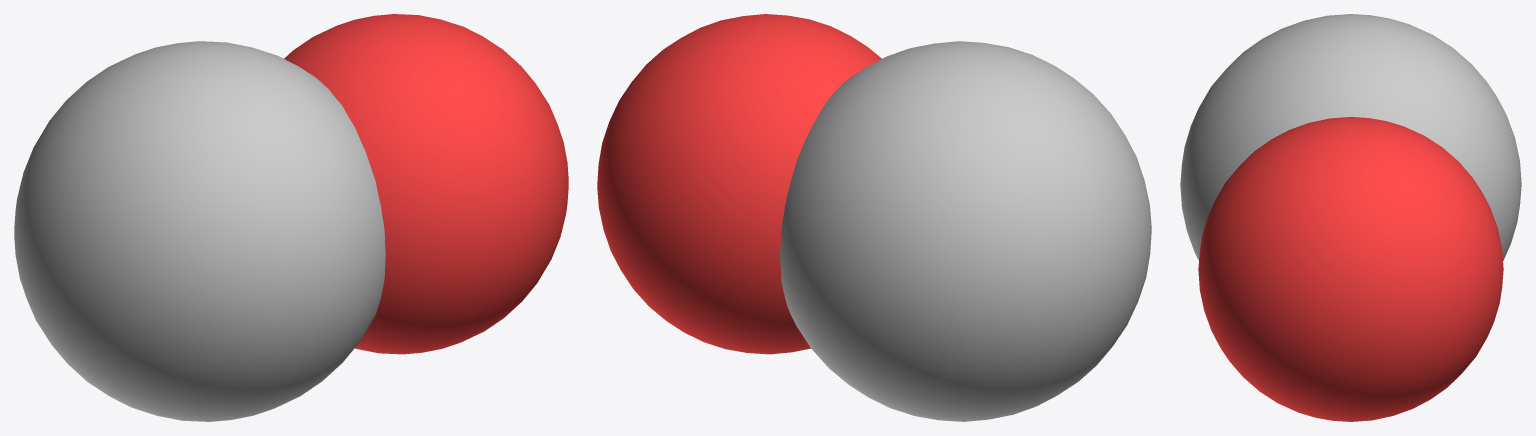
3 views of the same model, side by side, from view 1: azimuth 30°, elevation 25°; view 2: azimuth 150°, elevation 25°; view 3: azimuth 270°, elevation 25° (orthographic). The views are drawn at different scales.
Parts seen in each view (by area): view 1: C_Atom, O_Atom; view 2: C_Atom, O_Atom; view 3: O_Atom, C_Atom.
Boxes of the visible parts, x1,y1,x2,y2 form: C_Atom: (14, 41, 385, 421); O_Atom: (284, 14, 568, 354); C_Atom: (780, 41, 1151, 421); O_Atom: (597, 14, 881, 354); O_Atom: (1198, 117, 1503, 421); C_Atom: (1180, 14, 1521, 260).
Bounding box in the file's own units: 2.61 × 1.7 × 1.7.
